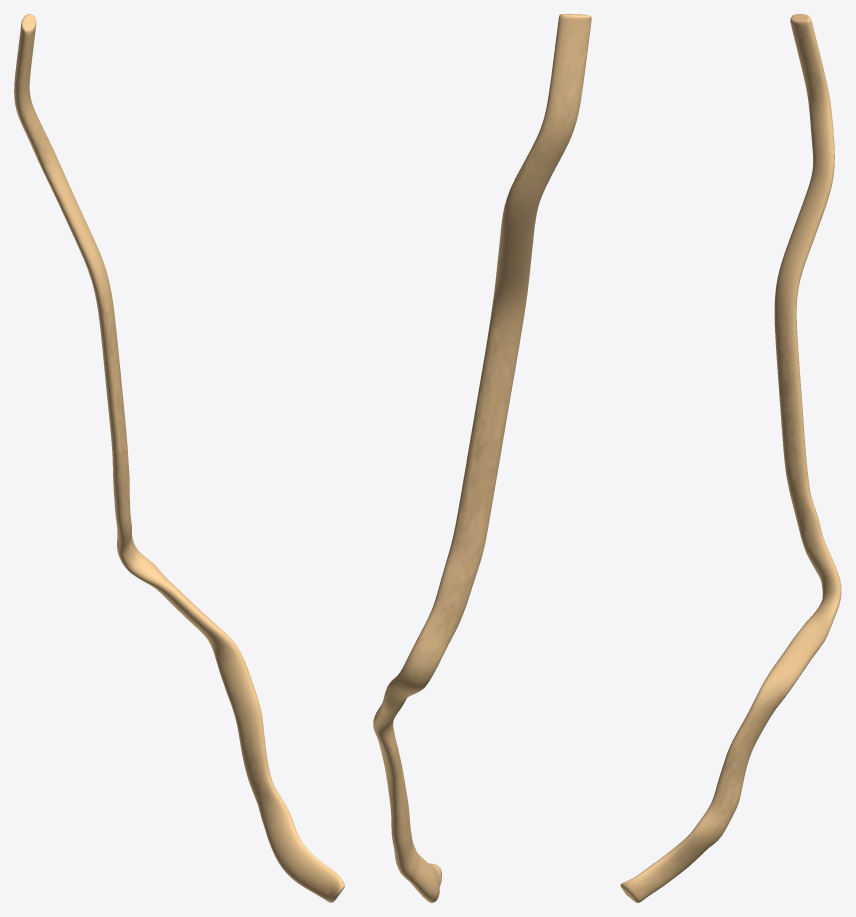
The model's file is N_axillary.glb.
The picture shows the model from 3 angles, left to right: view 1: azimuth 30°, elevation 25°; view 2: azimuth 150°, elevation 25°; view 3: azimuth 270°, elevation 25°; orthographic projection. The views are drawn at different scales.
Visible parts, largest first — view 1: N_axillary.obj; view 2: N_axillary.obj; view 3: N_axillary.obj.
Boxes of the visible parts, x1,y1,x2,y2 form: N_axillary.obj: [14, 14, 344, 902]; N_axillary.obj: [373, 14, 591, 902]; N_axillary.obj: [620, 14, 841, 902].
Size of the model in its own units: 0.0011 by 0.00395 by 0.000998.
